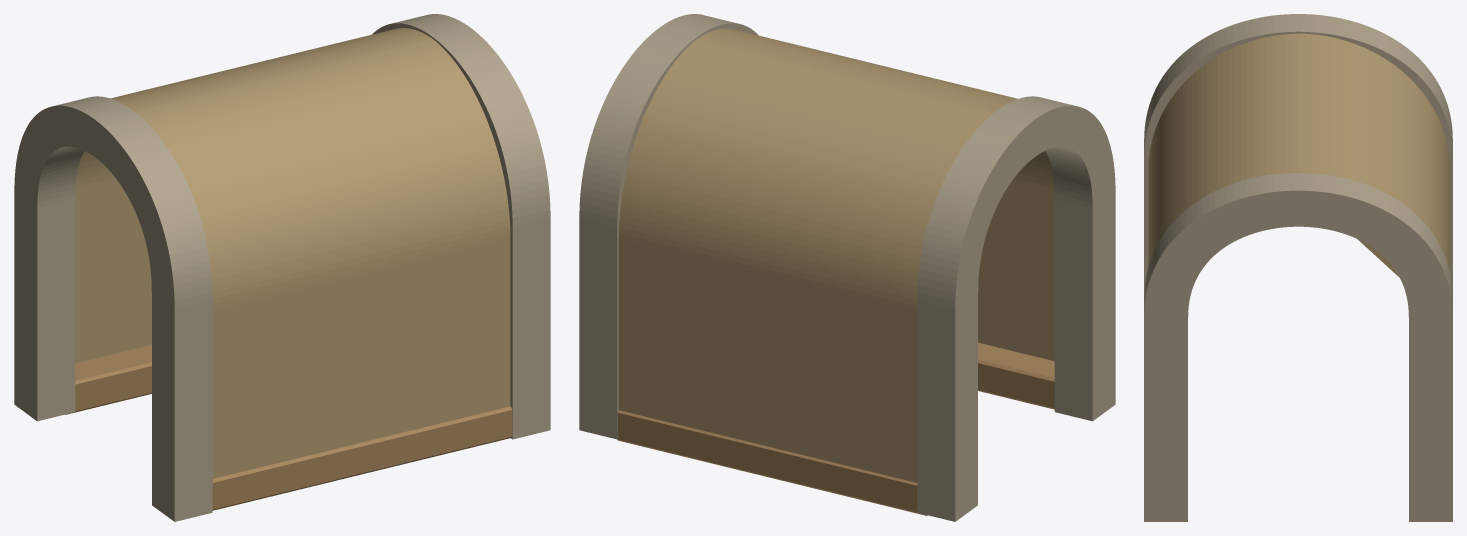
File: temple-lane-1.fbx
The picture shows the model from 3 angles, left to right: view 1: azimuth 30°, elevation 25°; view 2: azimuth 150°, elevation 25°; view 3: azimuth 270°, elevation 25°; orthographic projection. The views are drawn at different scales.
Parts seen in each view (by area): view 1: tekli arc.001; view 2: tekli arc.001; view 3: tekli arc.001.
Part boxes in pixels (left/top/right/bottom): tekli arc.001: left=14, top=14, right=550, bottom=521; tekli arc.001: left=579, top=14, right=1115, bottom=521; tekli arc.001: left=1144, top=14, right=1452, bottom=521.
Bounding box in the file's own units: 35.27 × 31.08 × 26.05.
